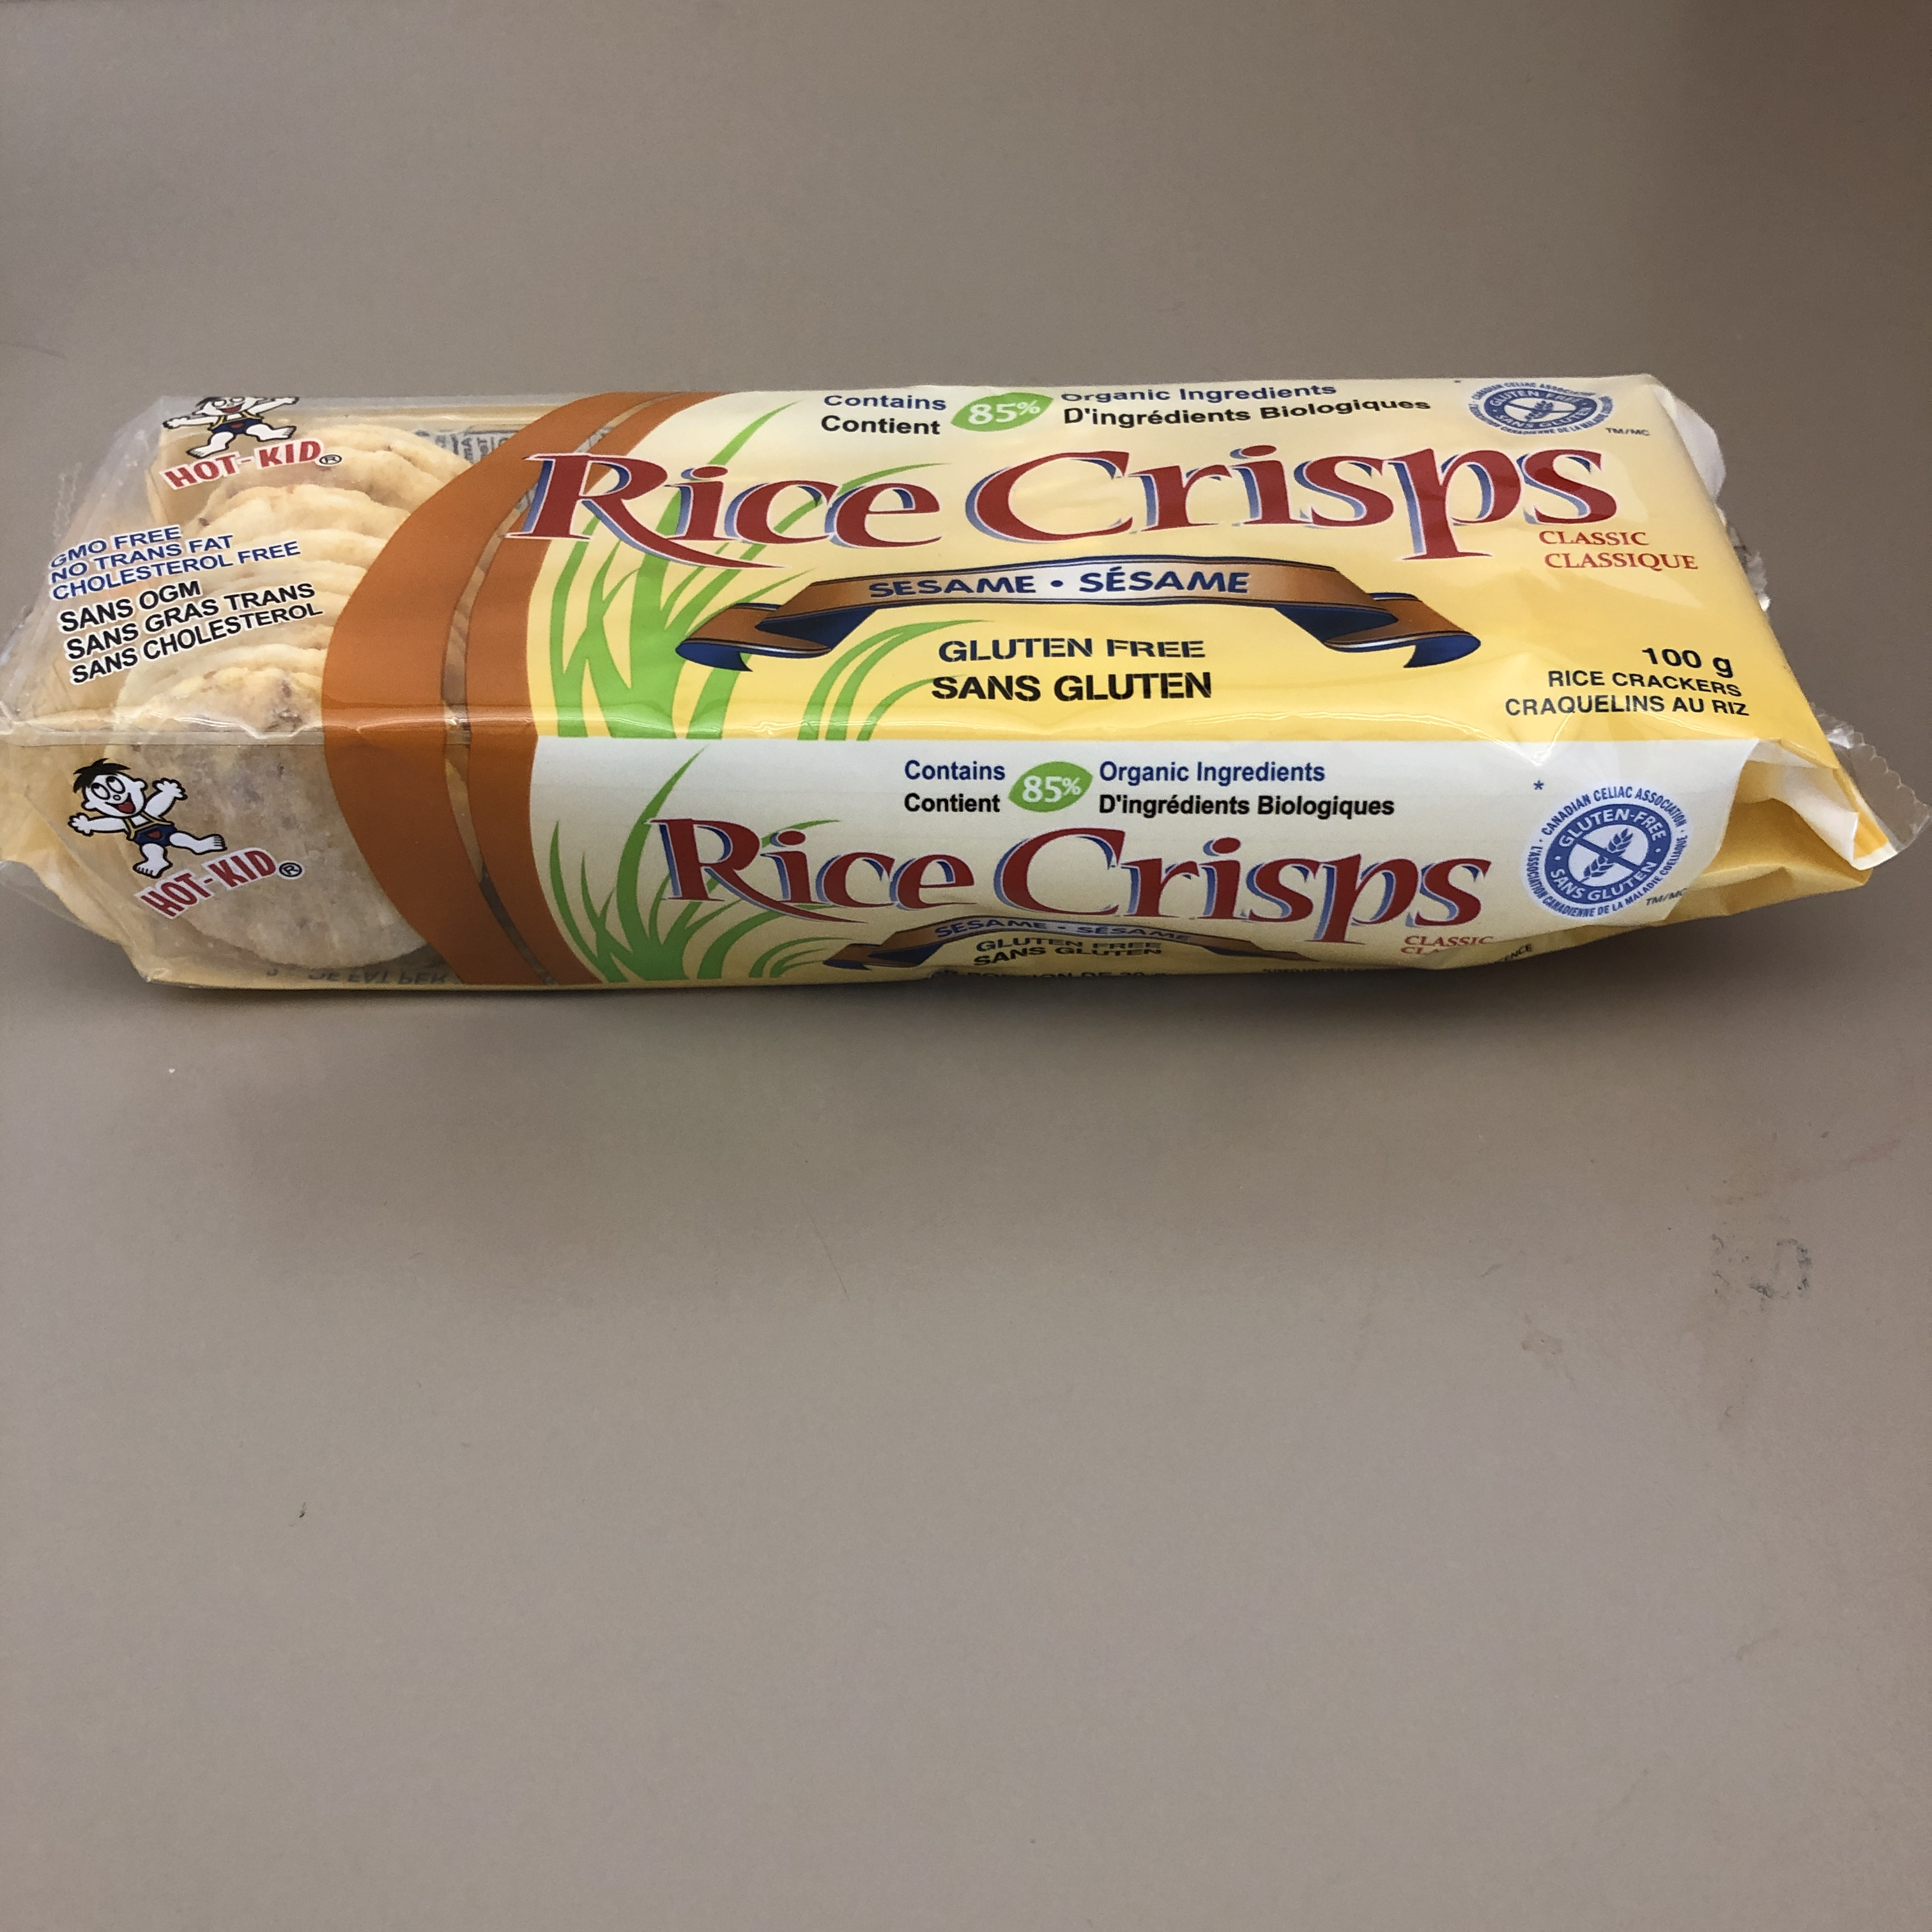hot_kid_rice_crisps_sesame: (385, 199, 974, 1867)
